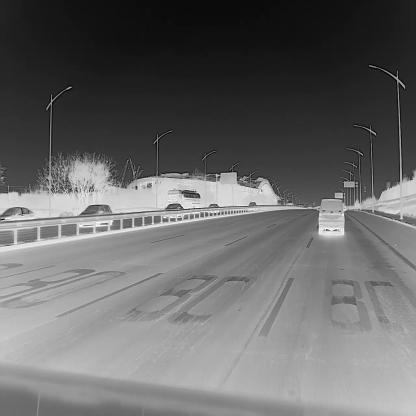car: (318, 197, 345, 234), (76, 203, 114, 229), (162, 202, 184, 218), (2, 206, 30, 218), (55, 208, 76, 223), (208, 202, 219, 213), (248, 200, 257, 210), (286, 199, 293, 207)
truck: (166, 188, 202, 213)
